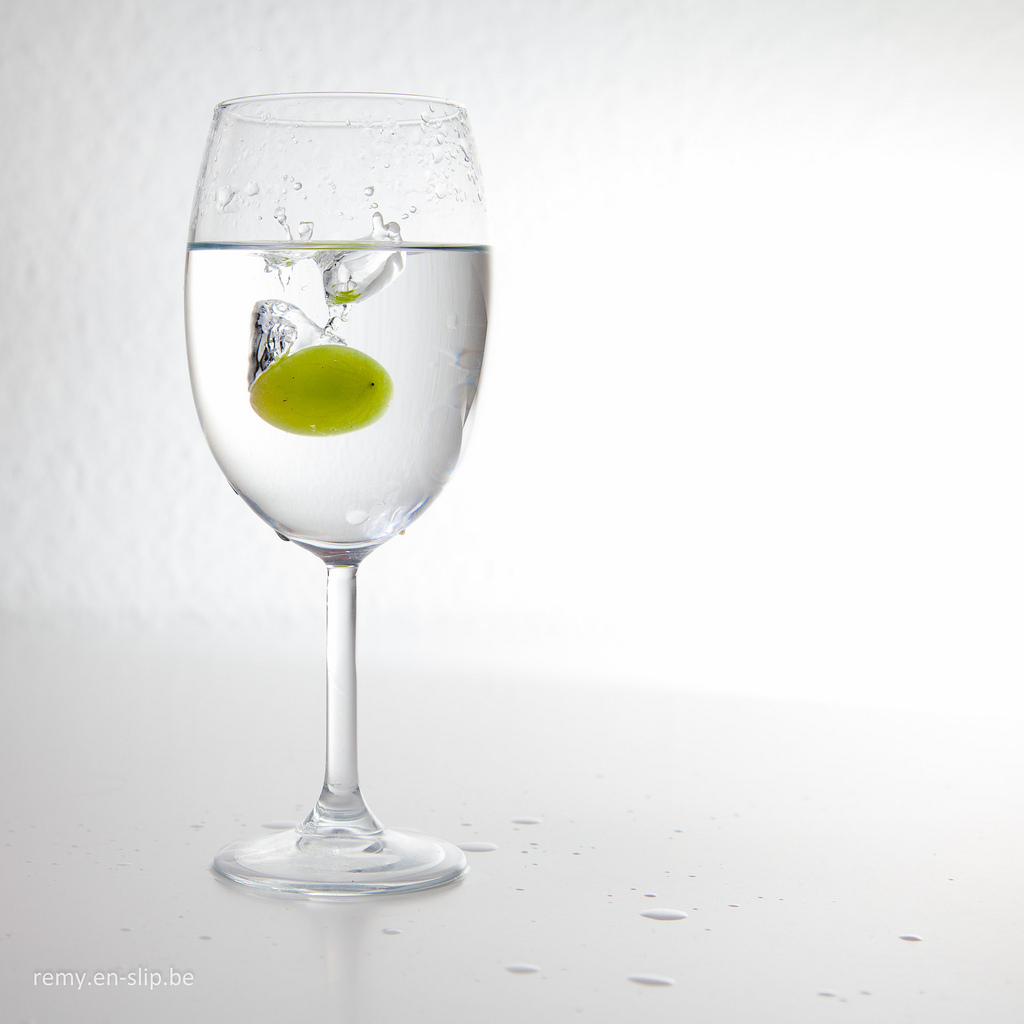glass of water: (174, 68, 499, 929)
